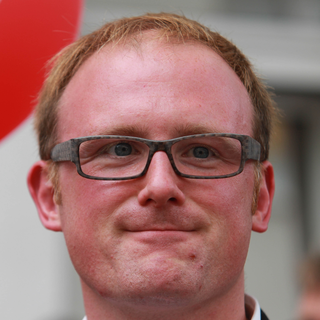eye: (94, 140, 140, 163), (183, 142, 226, 165)
